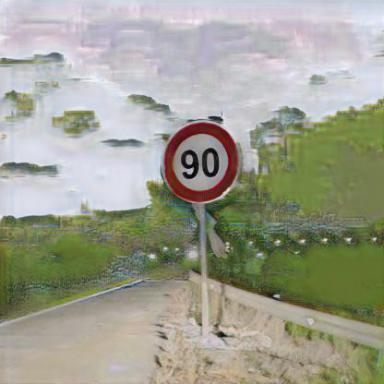Speed_limit_90: (165, 122, 237, 203)
